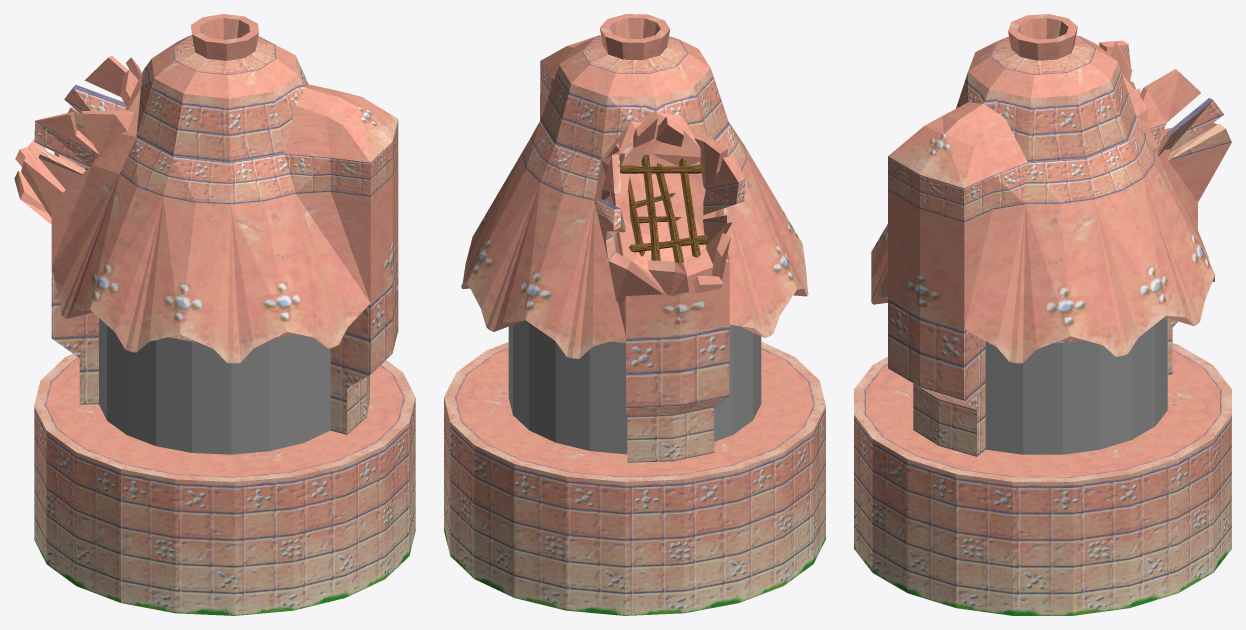
Rendered from sandeggrepair.dae.
The picture shows the model from 3 angles, left to right: view 1: azimuth 30°, elevation 25°; view 2: azimuth 150°, elevation 25°; view 3: azimuth 270°, elevation 25°; orthographic projection.
Visible parts, largest first — view 1: m0, m2; view 2: m0, m2, m3; view 3: m0, m2.
Part boxes in pixels (bbox=[...]): m0: bbox=[14, 14, 415, 615]; m2: bbox=[99, 318, 330, 454]; m0: bbox=[444, 14, 825, 615]; m2: bbox=[508, 320, 761, 454]; m3: bbox=[620, 154, 707, 263]; m0: bbox=[854, 14, 1231, 615]; m2: bbox=[985, 317, 1167, 454].
Size of the model in its own units: 2554 by 3782 by 2554.
Materials: 4 (4 with a texture image).
